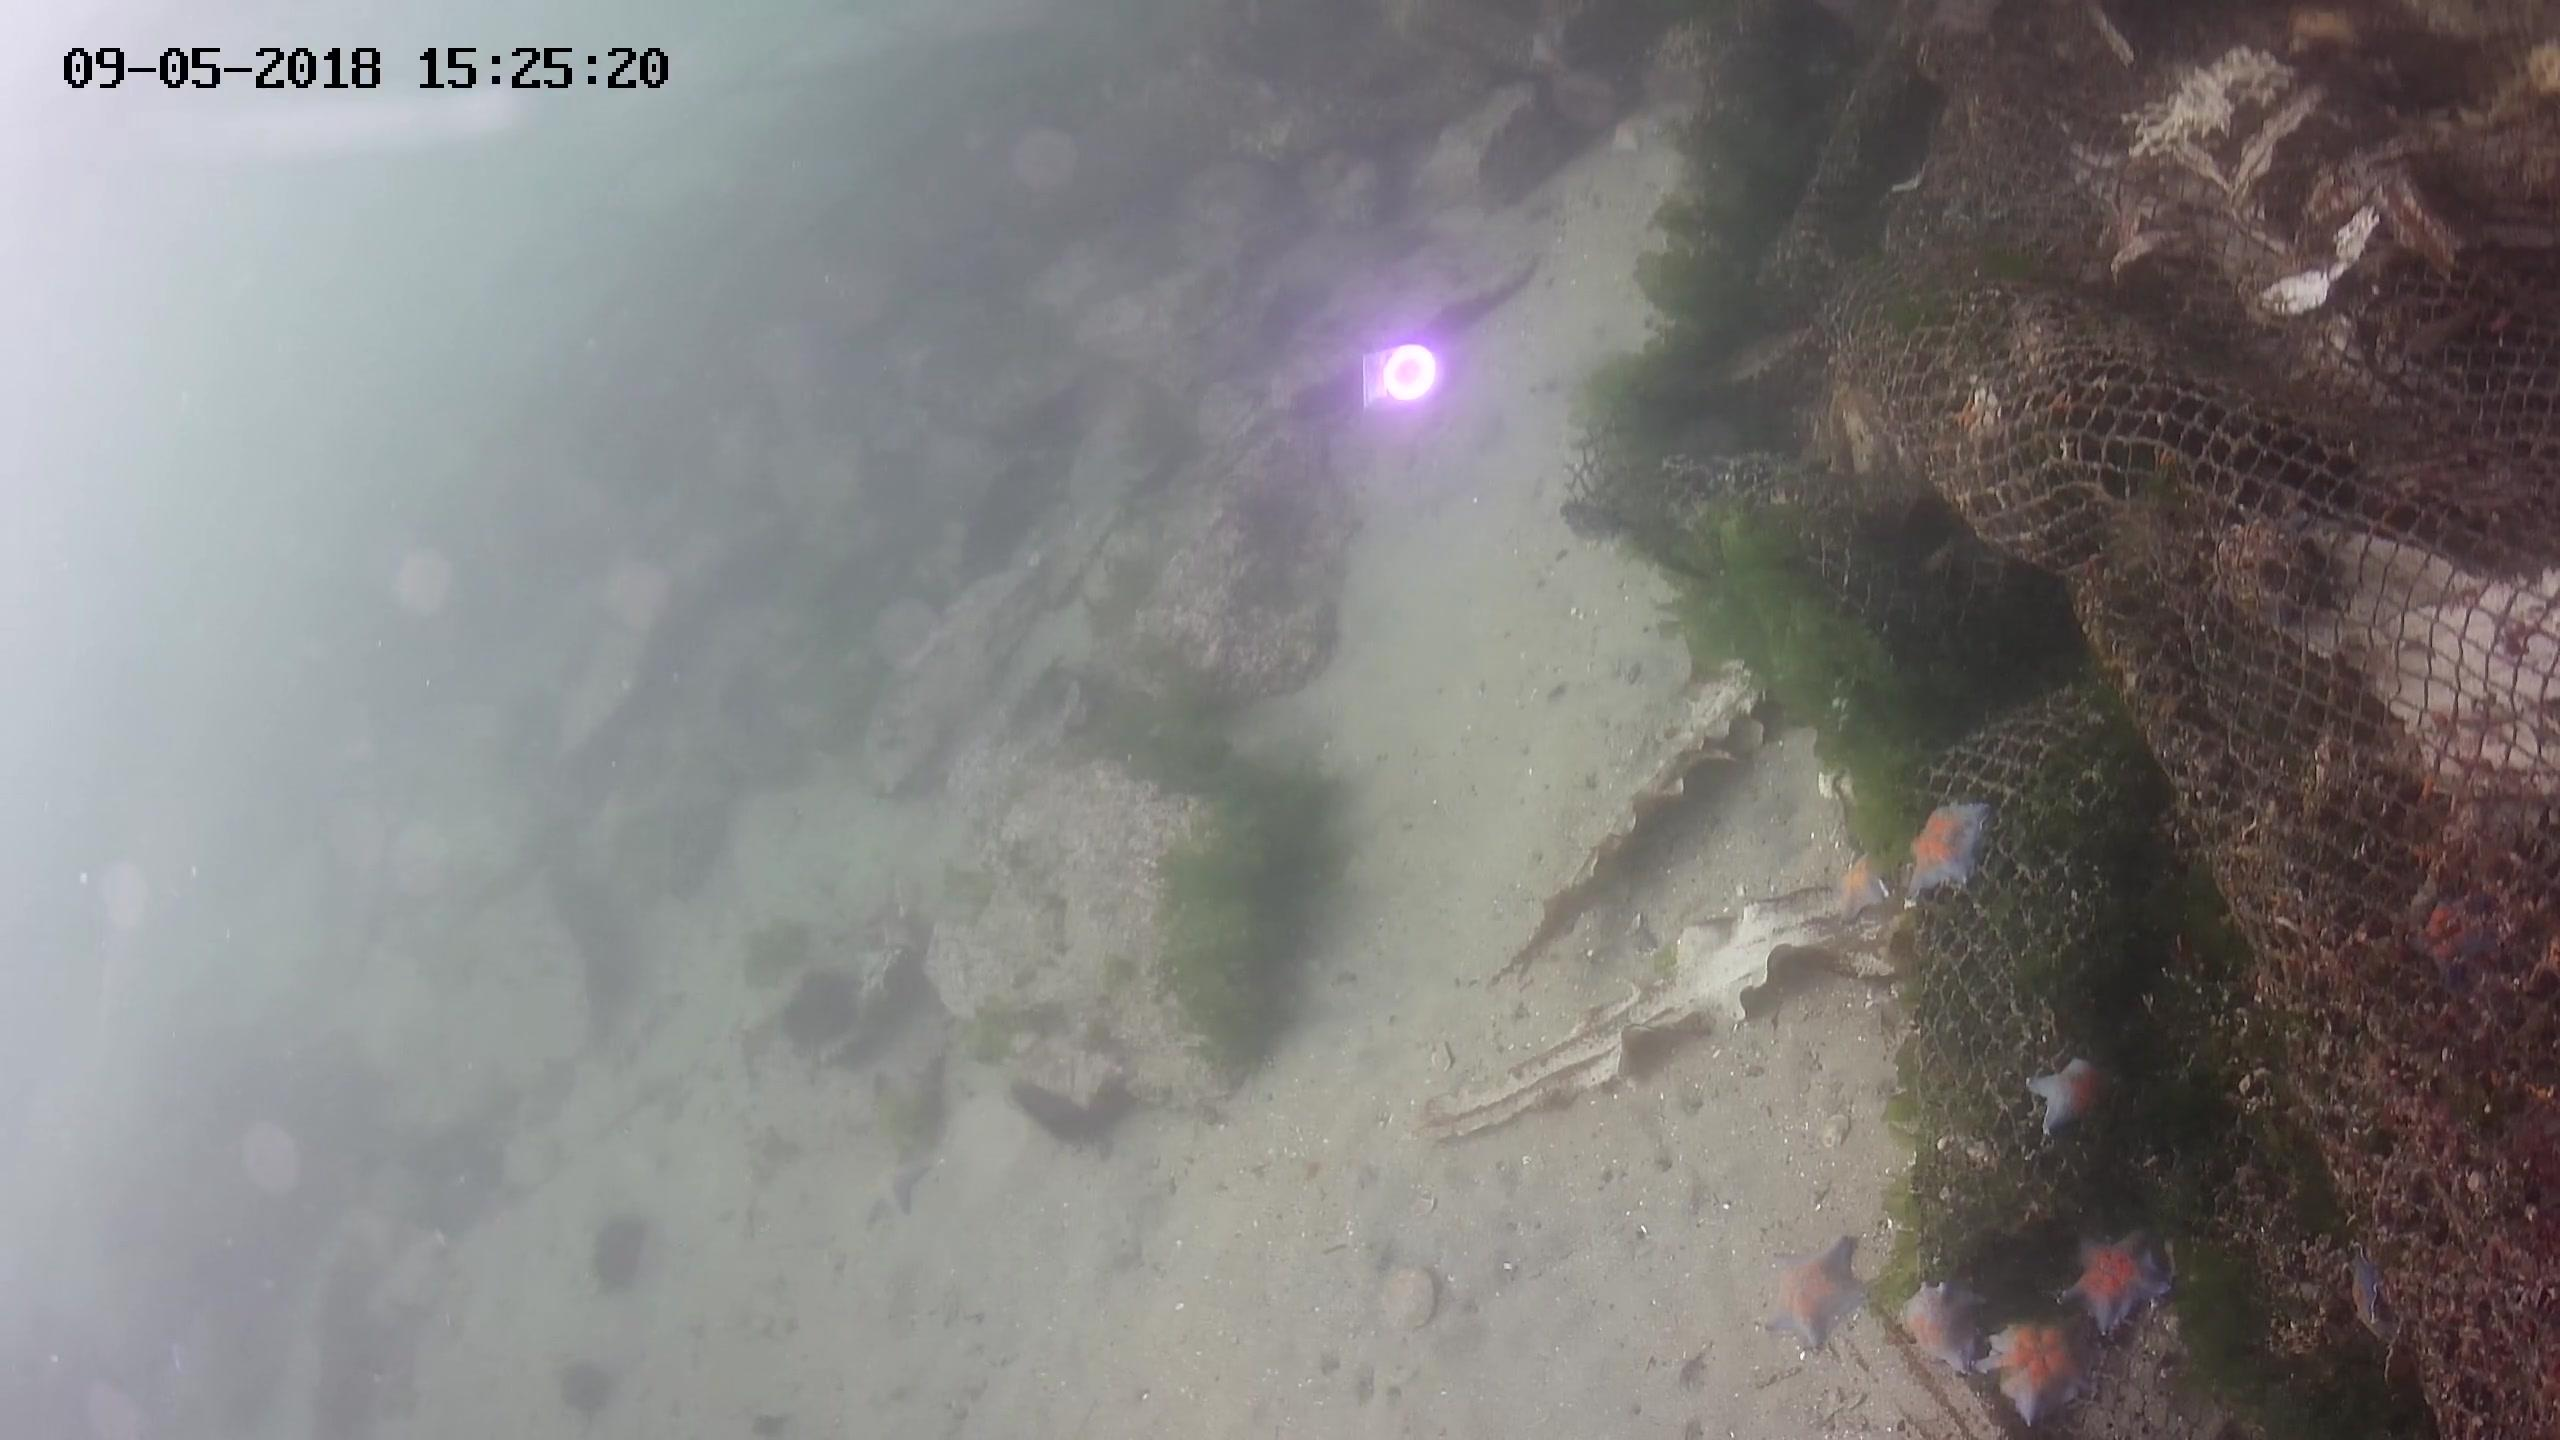echinus: (770, 971, 862, 1046), (585, 1218, 649, 1284)
scallop: (1366, 1268, 1442, 1327)
starfish: (1978, 1317, 2089, 1415), (1760, 1241, 1871, 1336), (2020, 1046, 2129, 1138), (2066, 1231, 2166, 1324), (1904, 798, 1990, 898), (1894, 1285, 1978, 1377), (2402, 900, 2497, 972), (2333, 1247, 2389, 1342), (1818, 858, 1892, 918)
